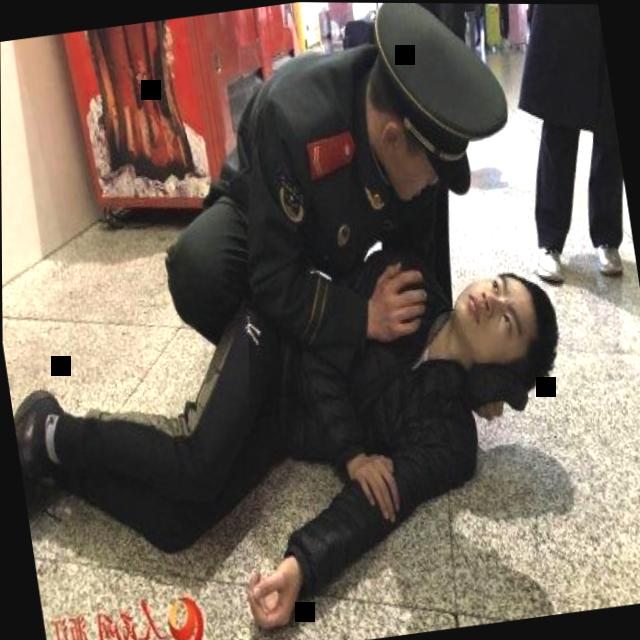Fall-Detected: (1, 219, 608, 640)
